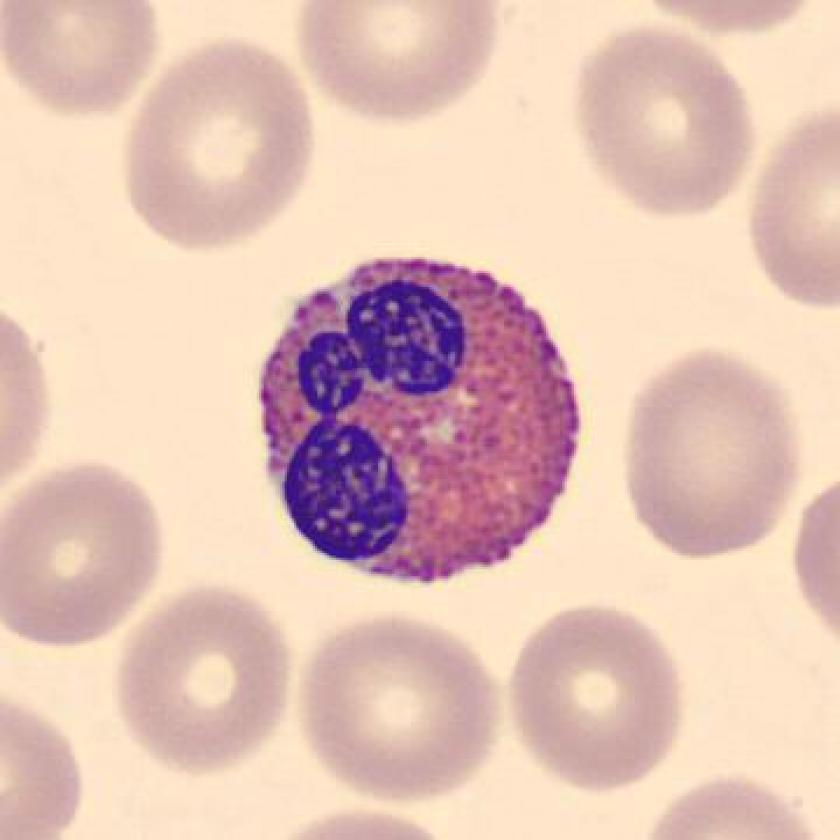eosinophil: (246, 239, 591, 596)
